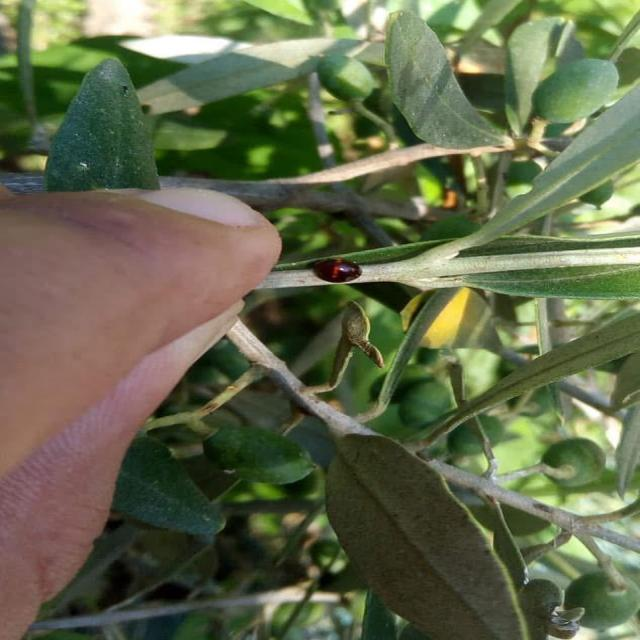Black Scale: (311, 258, 361, 283)
